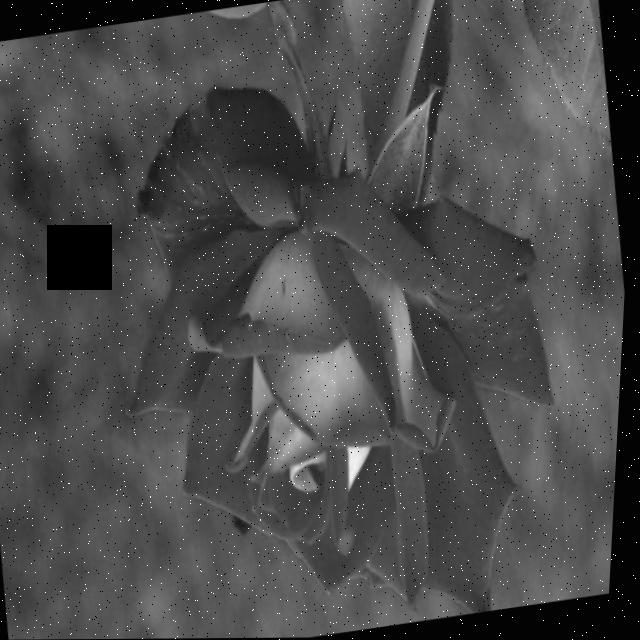rose: (48, 29, 627, 640)
